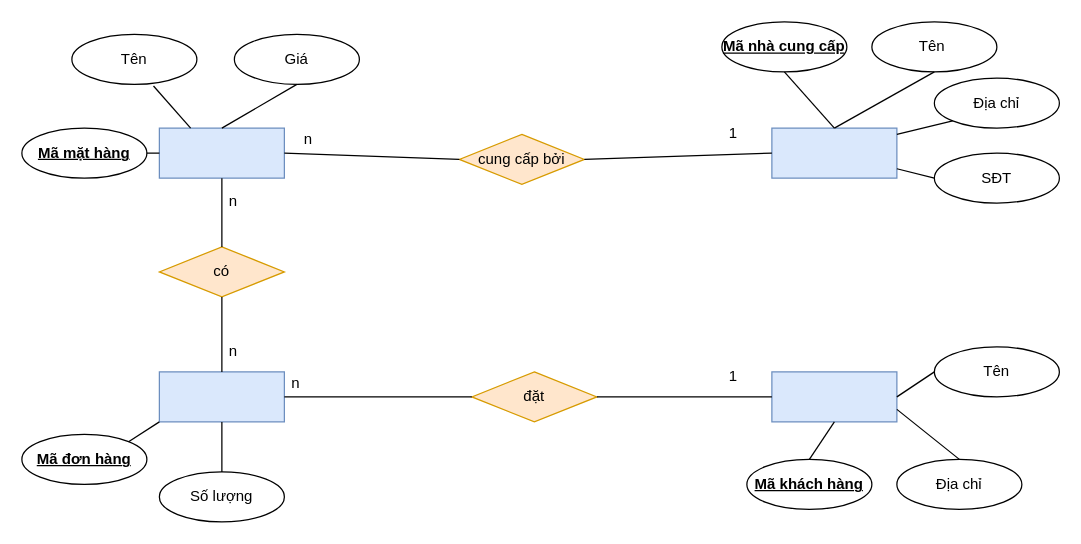
The diagram is 1081 pixels wide and 544 high, and some of its shapes have lost their labels. The centre of each missing label's shape, as x and y in pixels:
Khách hàng: pixel 834 396
Mặt hàng: pixel 221 152
Nhà cung cấp: pixel 834 152
Đơn đặt hàng: pixel 221 396
